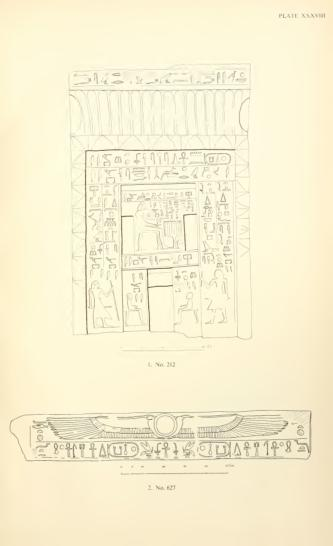circle: (196, 440, 235, 460), (106, 441, 140, 460), (201, 151, 234, 167)
